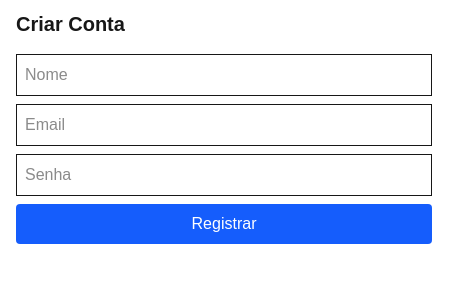
Test: RegisterPage › valida senha menor que 6 caracteres
In the field with placeholder "Nome": (224, 75) [16,54,432,96], type "Fulano"
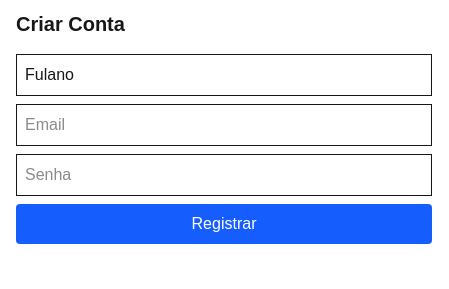
In the field with placeholder "Email": (224, 125) [16,104,432,146], type "fulano@email.com"
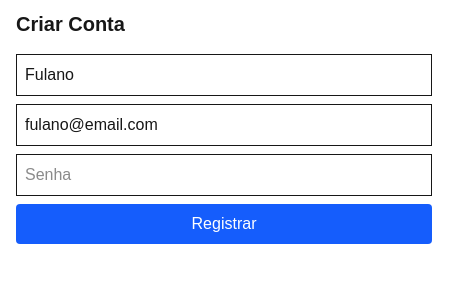
In the password field with placeholder "Senha": (224, 175) [16,154,432,196], type "123"
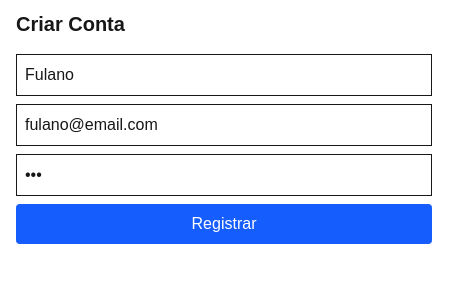
Click the button "Registrar": (224, 224) [16,204,432,244]
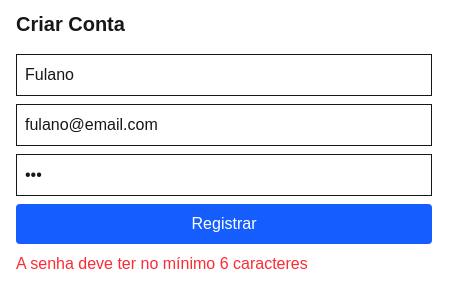
Check: the text "A senha deve ter no mínimo 6 caracteres" is shown, box [16,255,308,272]
